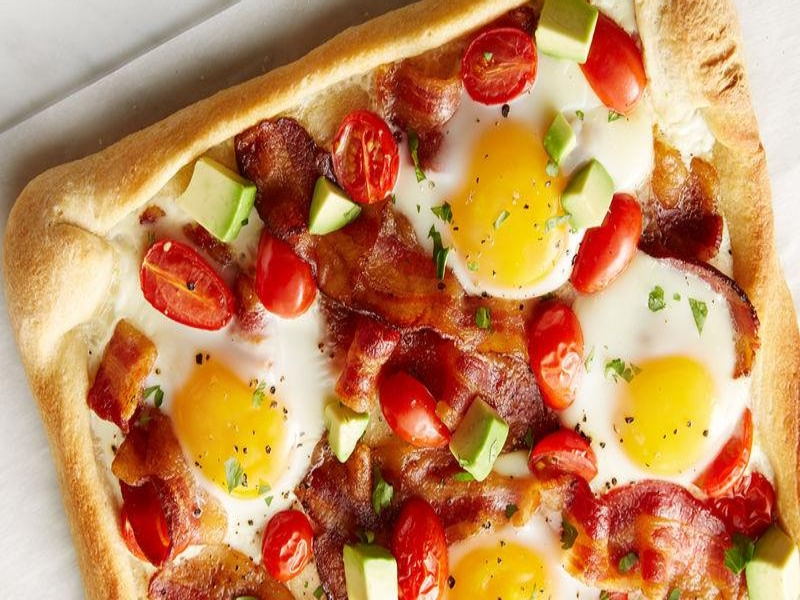oeuf: (426, 114, 590, 315), (156, 347, 309, 516), (594, 328, 722, 482)
